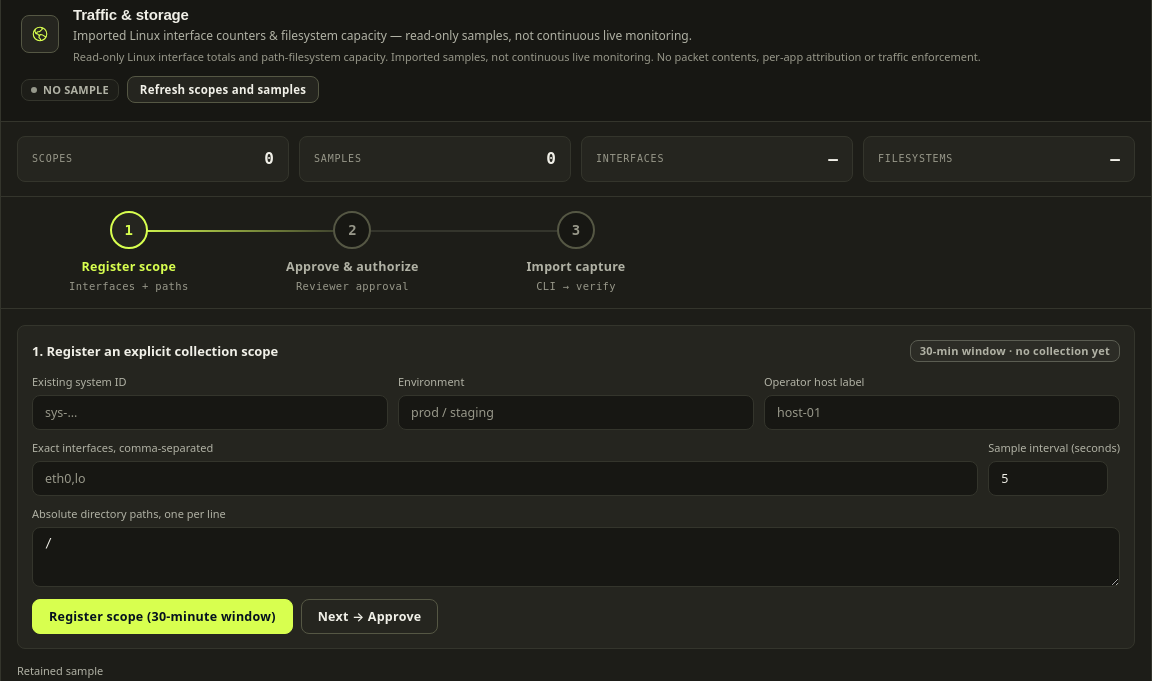
Test case: renders real zero traffic but unavailable capacity as Unknown without adding filesystems
Click the button "Refresh scopes and samples".
click(223, 90)  # box [127,76,319,104]
(page scrolled)
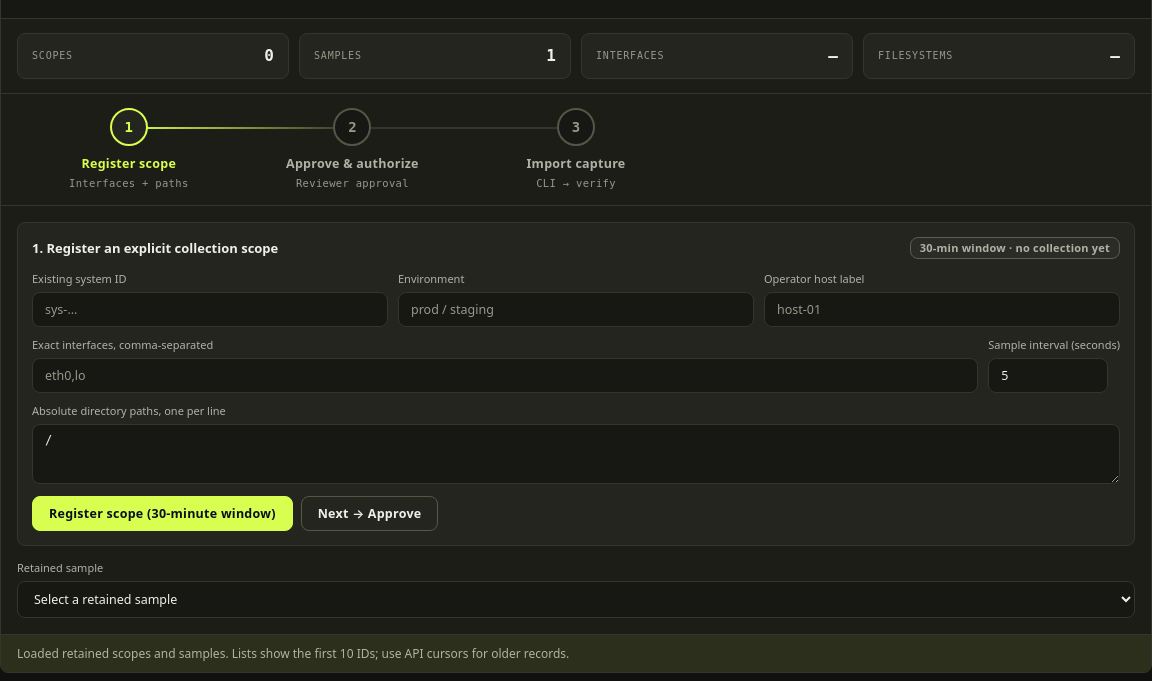
Select "synthetic-linux — recent" in the dropdown labelled "Retained sample" at (576, 599), box [17,581,1135,618]
(page scrolled)
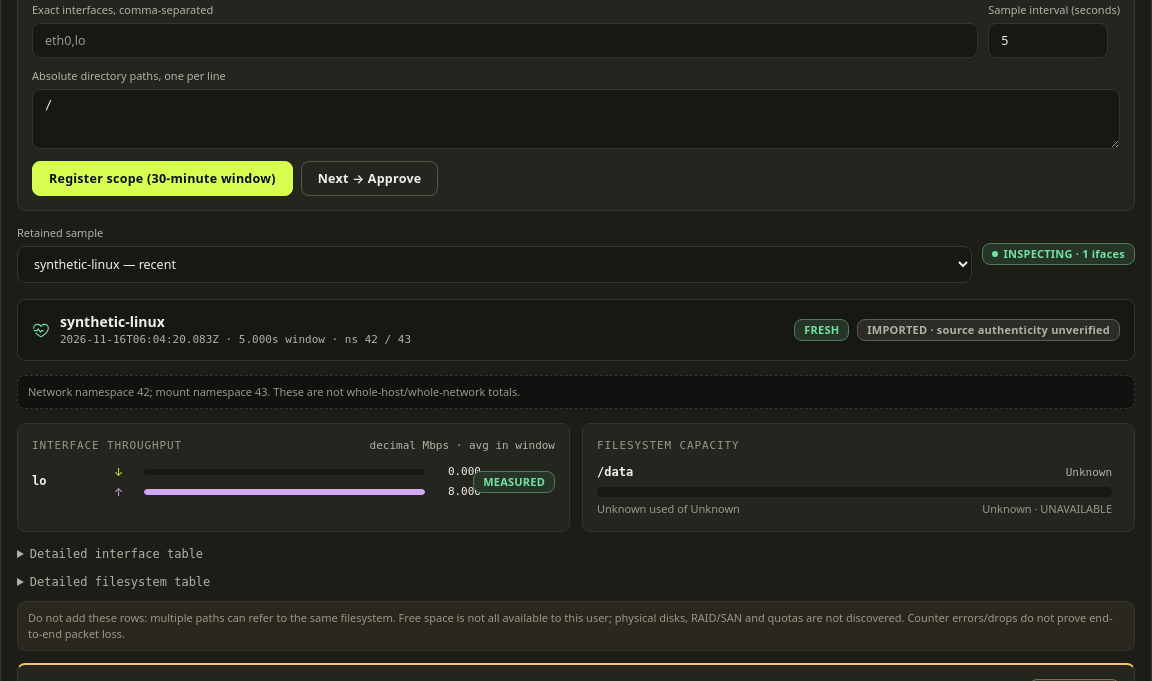
Now the text "synthetic-linux" is shown, box [60,312,165,331]
Now the text "0.000" is shown 2 times
Now the text "Do not add these rows" is shown, box [28,610,1112,641]
